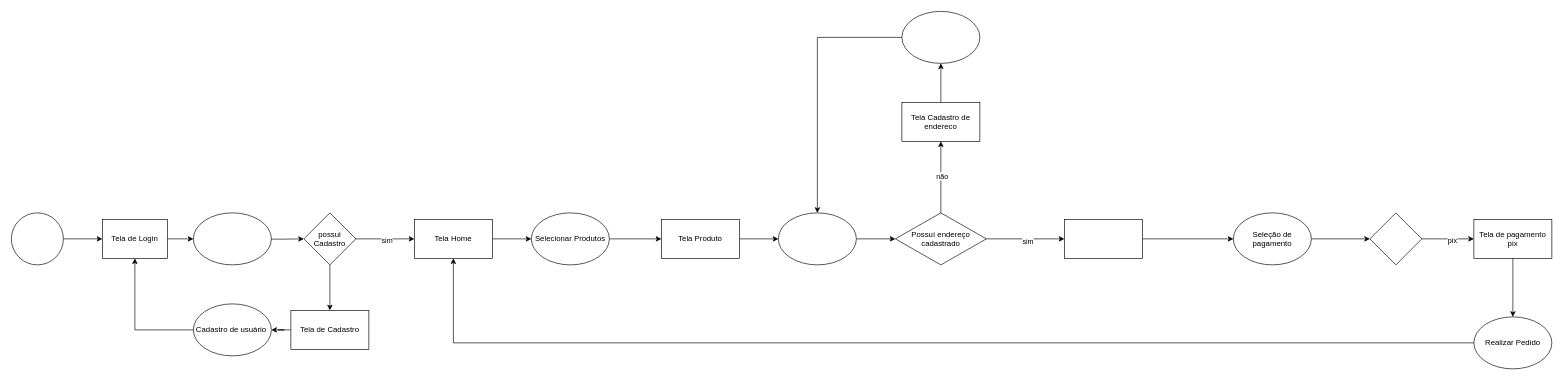
The diagram is 1563 pixels wide and 380 high, and some of its shapes have lost their labels. The centre of each missing label's shape, as x and y in pixels:
Abrir o App: (x=37, y=238)
Cadastro de Endereço: (x=940, y=37)
Calcular Frete: (x=817, y=238)
Forma de Pagamento: (x=1395, y=238)
Login: (x=232, y=238)
Tela de CheckOut/Pagamento: (x=1103, y=238)
